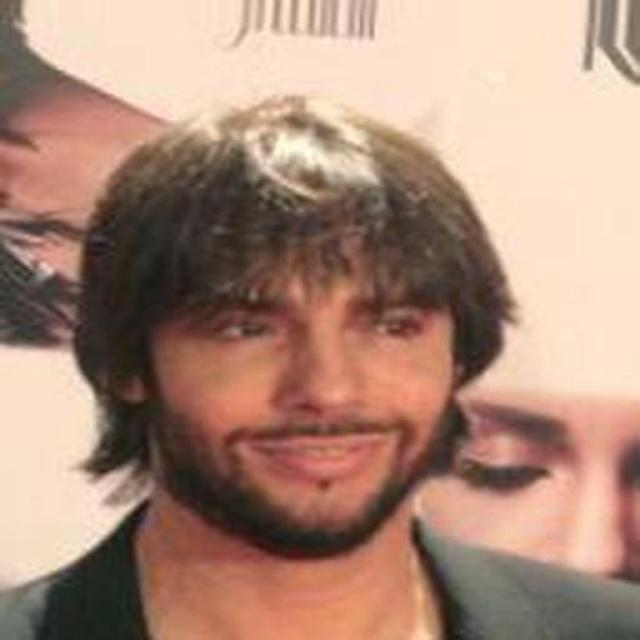bareface: (71, 107, 491, 564)
